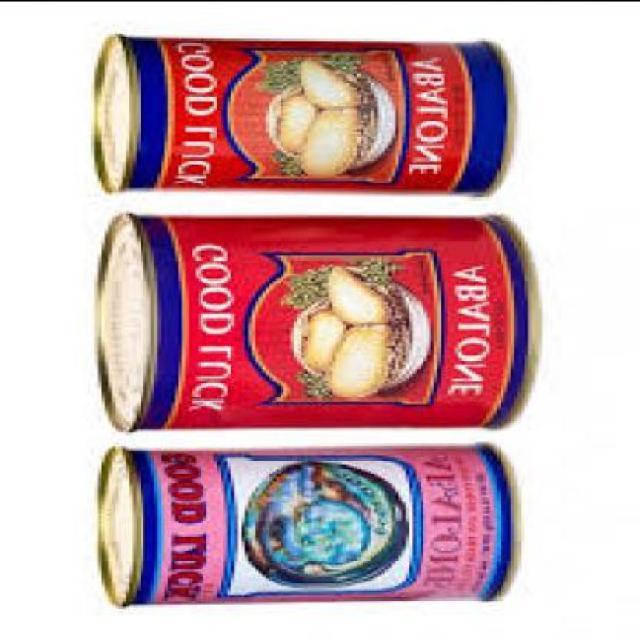METAL: (95, 209, 542, 428), (87, 31, 507, 191), (91, 444, 507, 598)
